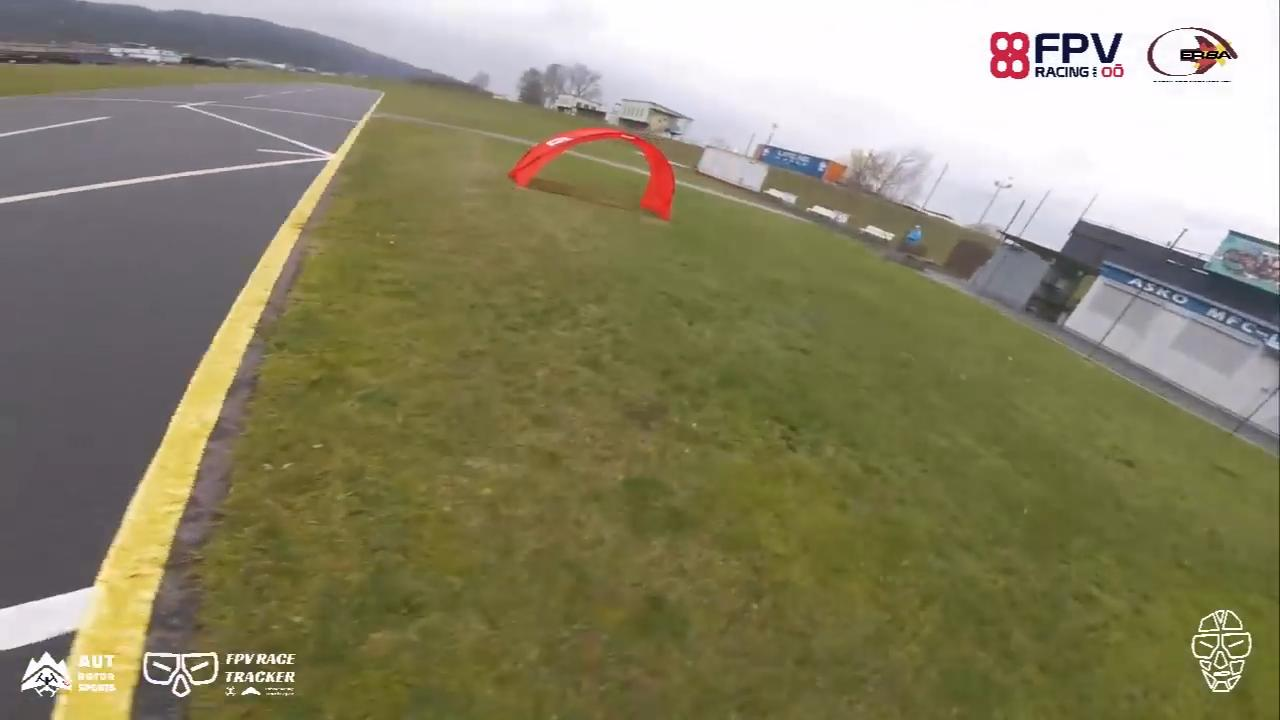gate: (506, 123, 676, 222)
